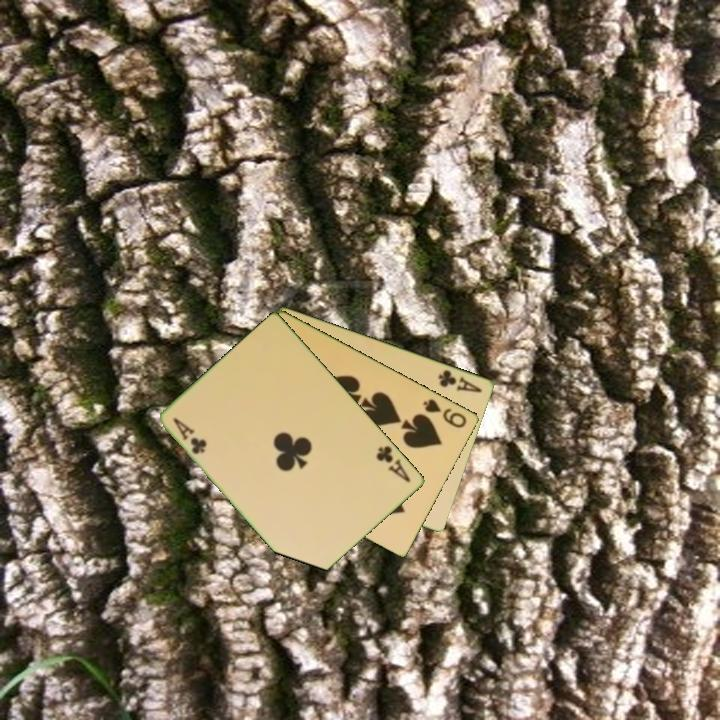9s: (420, 395, 470, 431)
Ac: (373, 442, 414, 485), (170, 414, 210, 457), (435, 366, 485, 395)
